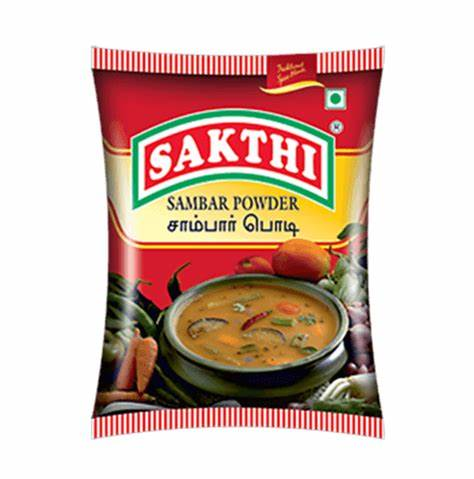VEG: (324, 87, 348, 110)
